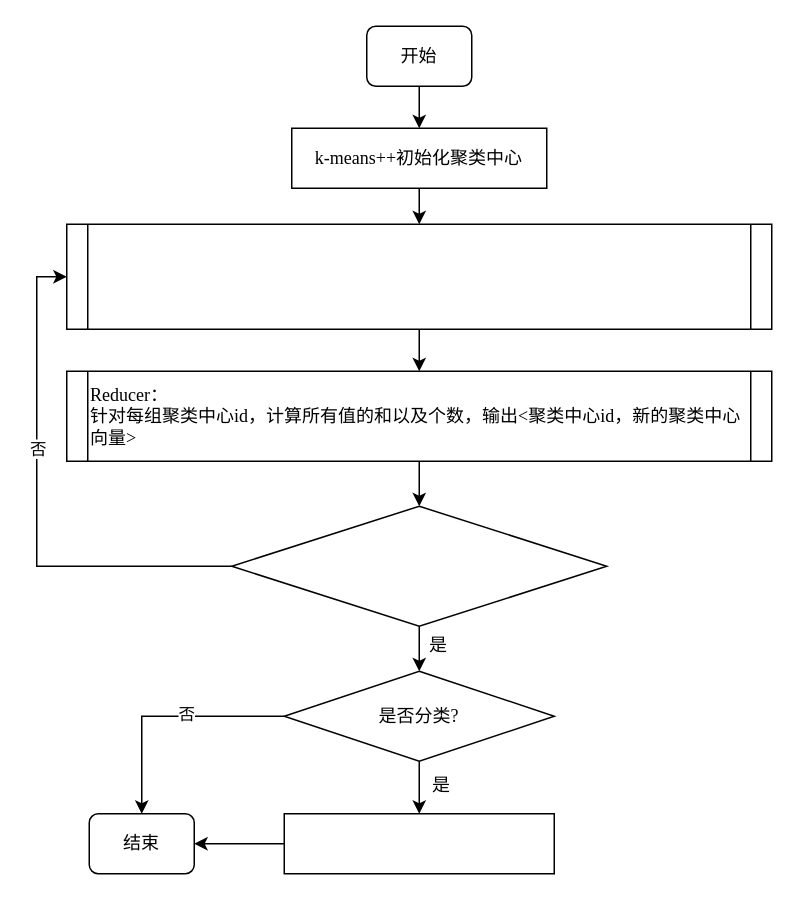
This 798x900 diagram has some shape labels left out. The shapes that lost their labels are listed below. From the top down, each one's box as (x1, y1, x2, y2) in pixels, then its label:
(65, 223, 772, 329): Mapper： 1、读取聚类中心向量 2、针对每个记录，计算其与聚类中心的距离 3、找到距离最小的聚类中心下标，输出<聚类中心下标，该记录>
(230, 505, 607, 626): 是否满足阈值条件? or 是否达到最大迭代次数?
(283, 812, 554, 874): 根据聚类中心向量进行分类
